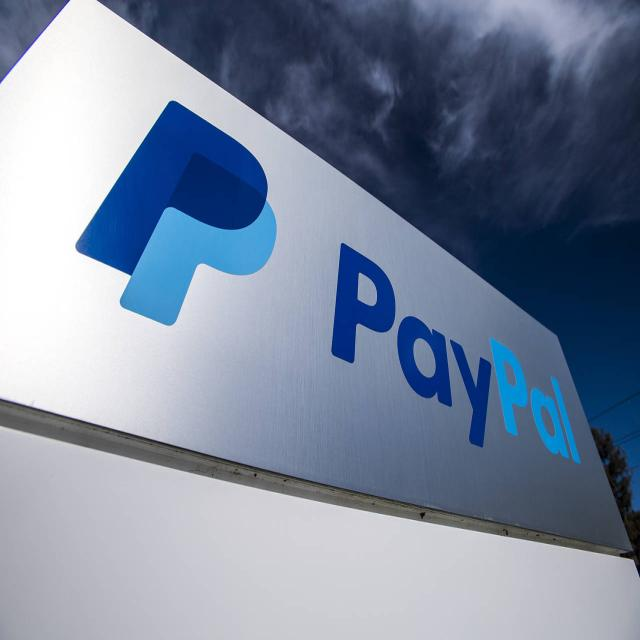paypal: (75, 98, 278, 326)
paypal_txt: (330, 242, 580, 463)
